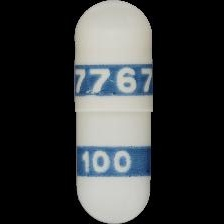63187-331: (0, 0, 224, 224)
